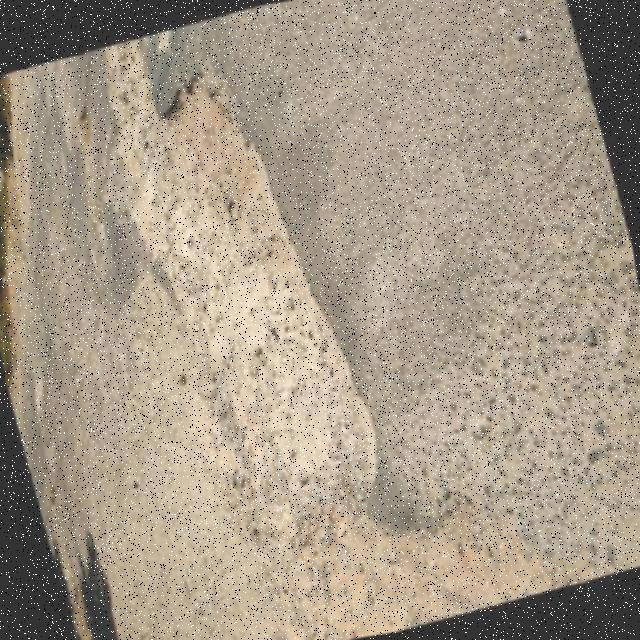Pothole: (122, 81, 376, 547)
